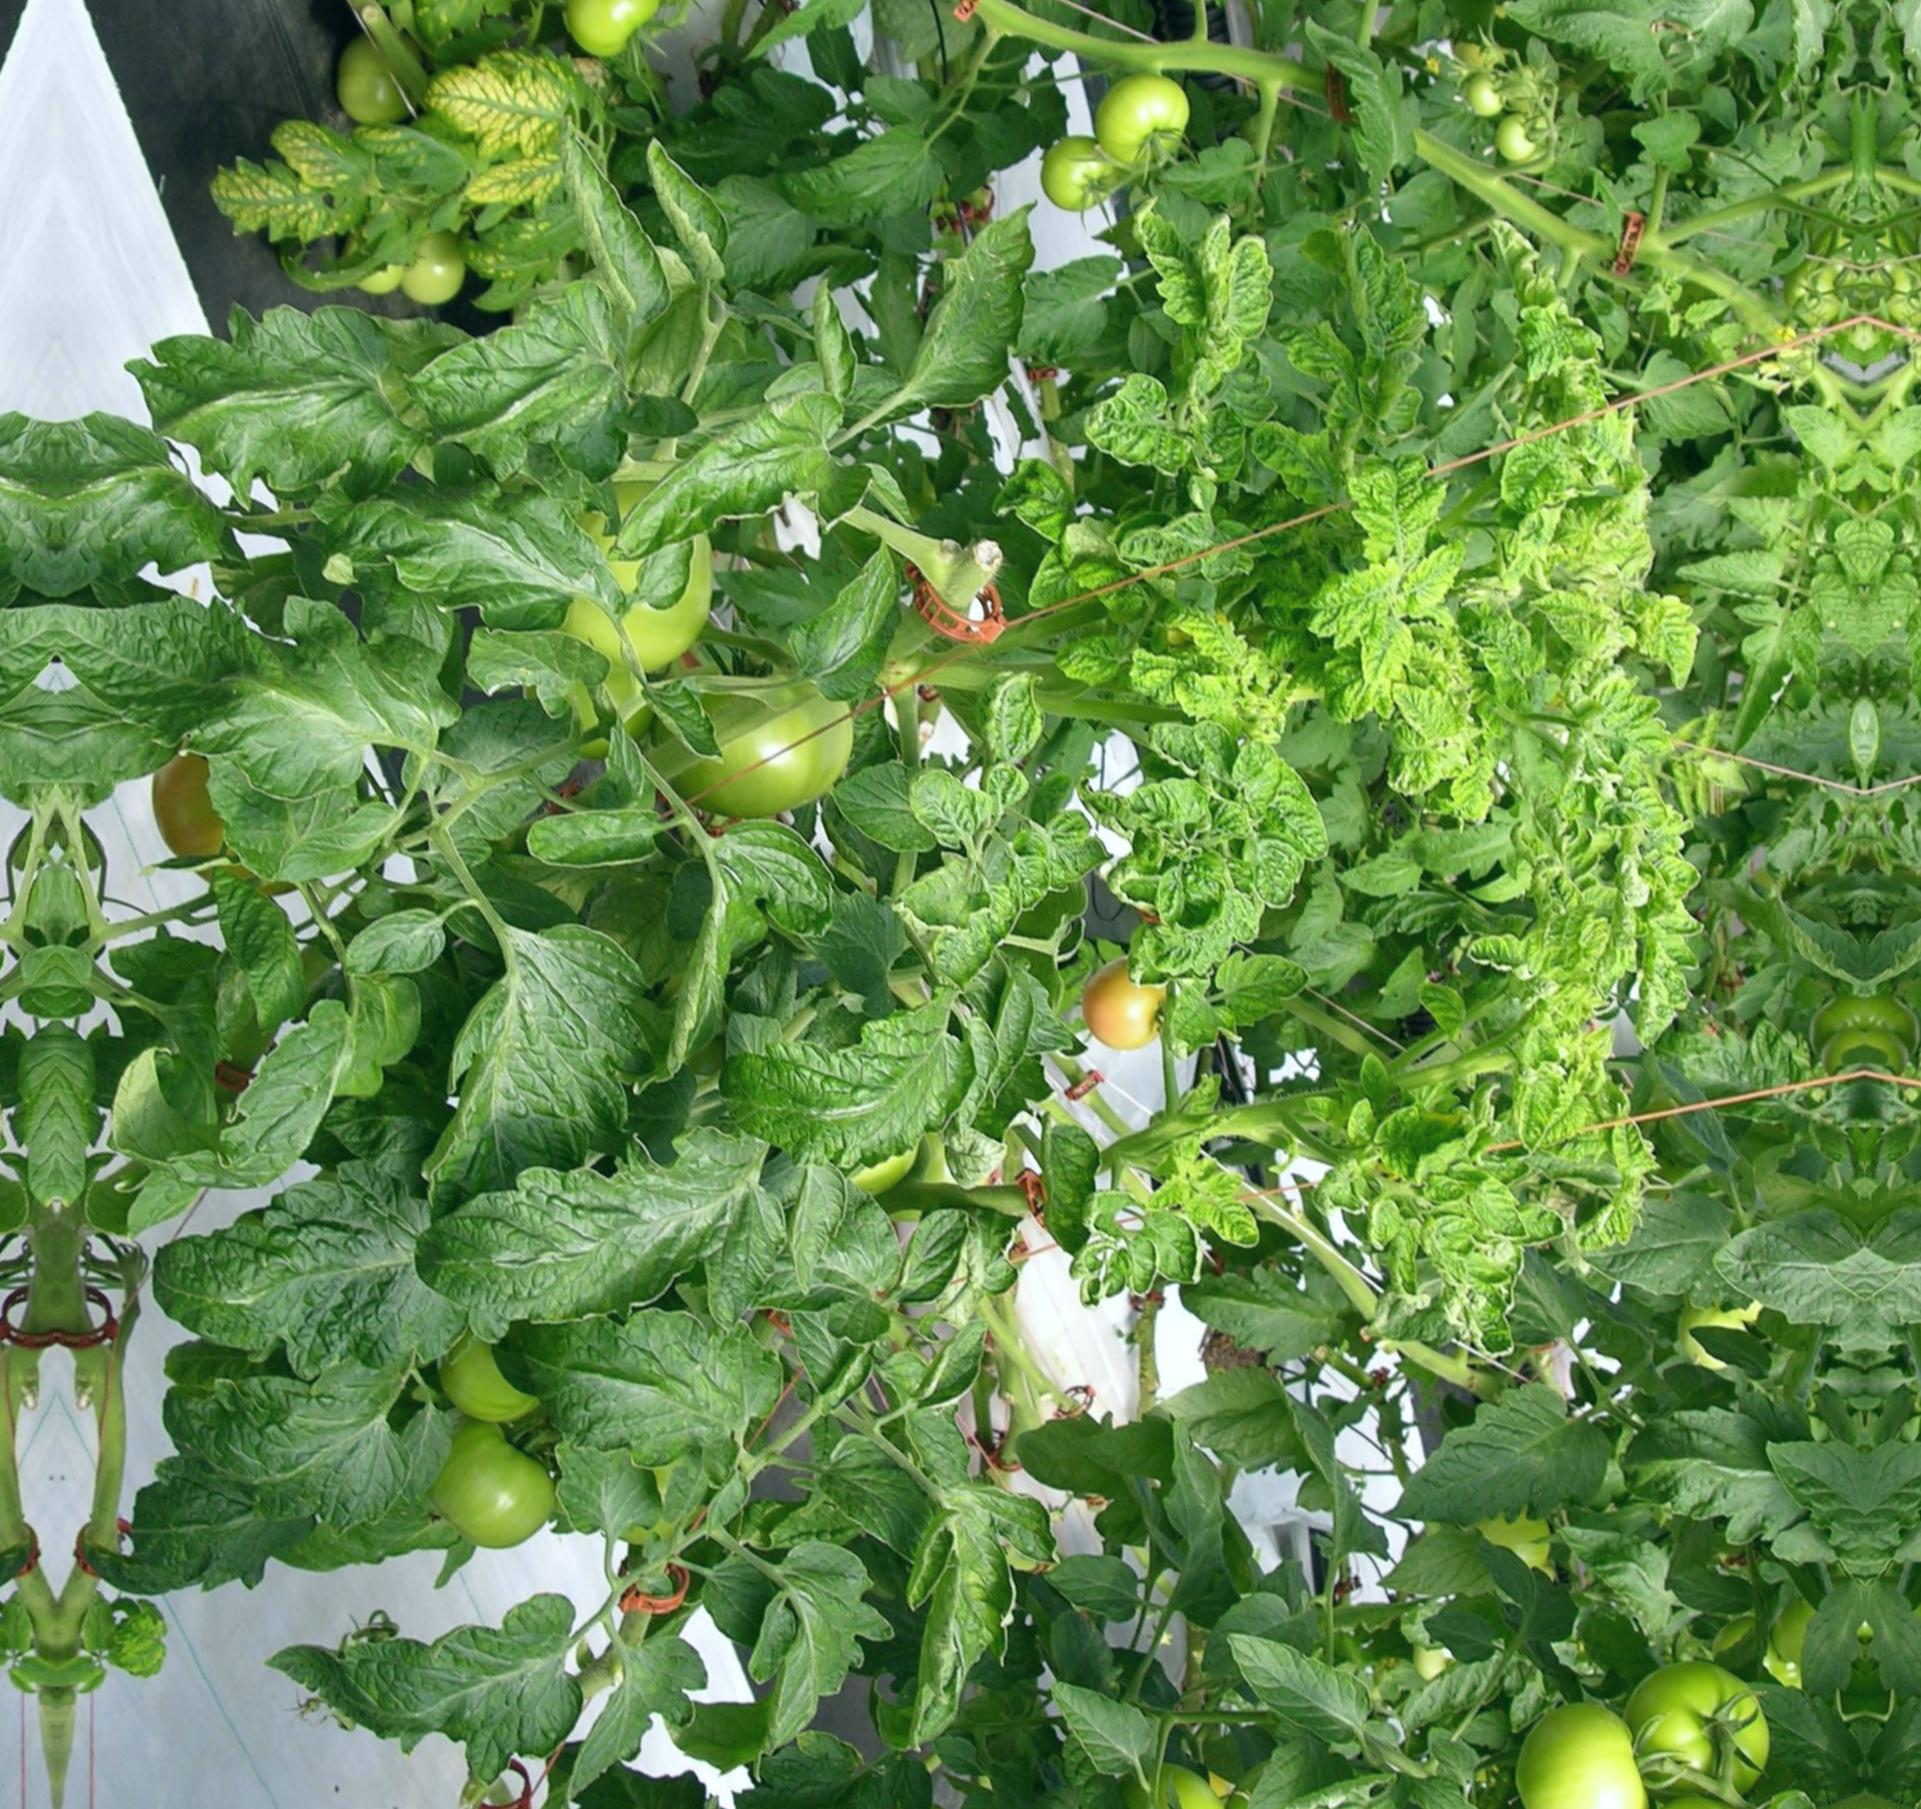Tomato leaf yellow virus: (403, 1149, 733, 1348), (704, 973, 972, 1178), (199, 116, 467, 279), (1110, 202, 1278, 384), (428, 49, 593, 160), (1071, 350, 1190, 496), (1380, 675, 1484, 818), (1340, 427, 1440, 568), (1142, 670, 1306, 748), (1200, 945, 1324, 1035), (1515, 581, 1620, 680), (1188, 1168, 1275, 1268), (1368, 1100, 1470, 1185), (1137, 592, 1249, 666), (1455, 918, 1559, 991), (1302, 570, 1397, 644), (1465, 1177, 1527, 1248)
